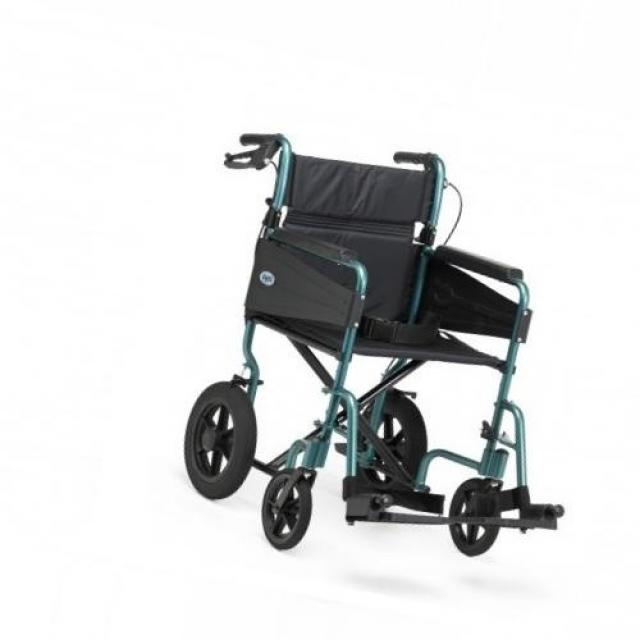wheelchair: (158, 119, 595, 587)
